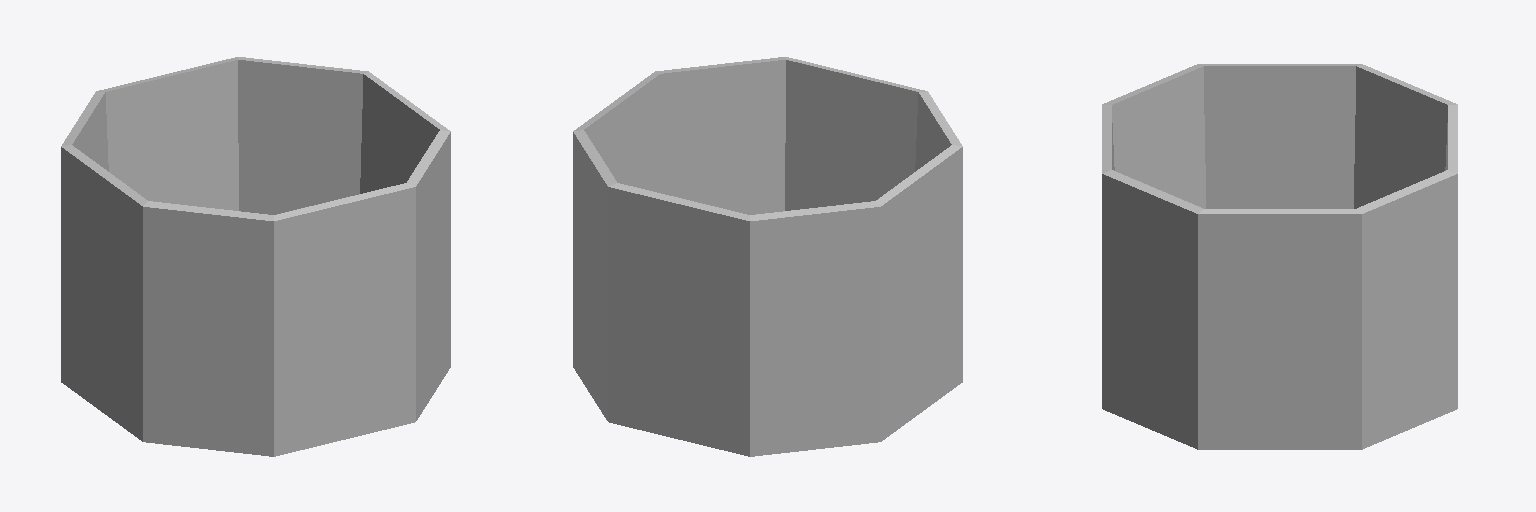
The model's file is wall_collider.obj.
3 renders of one model, left to right at view 1: azimuth 30°, elevation 25°; view 2: azimuth 150°, elevation 25°; view 3: azimuth 270°, elevation 25°, orthographic.
Visible parts, largest first — view 1: wall_collider; view 2: wall_collider; view 3: wall_collider.
Part boxes in pixels (left/top/right/bottom): wall_collider: left=61, top=57, right=450, bottom=456; wall_collider: left=573, top=57, right=962, bottom=456; wall_collider: left=1102, top=64, right=1457, bottom=449.
Size of the model in its own units: 32.5 by 23.92 by 32.5.